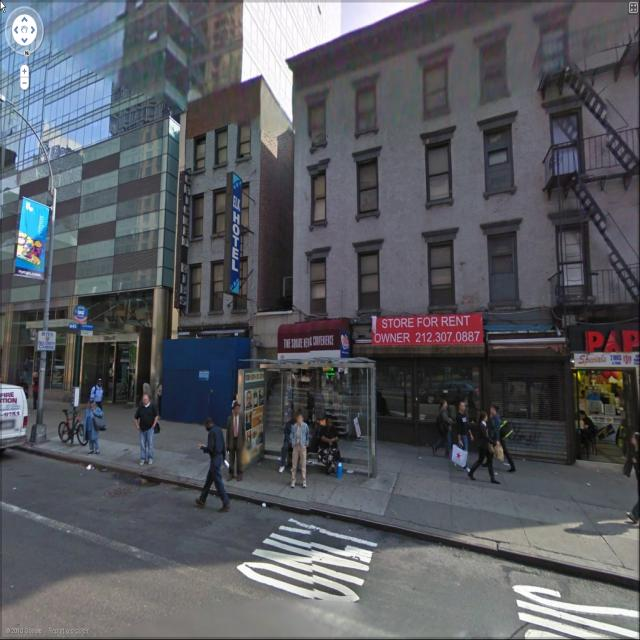b_1: (290, 19, 636, 420), (0, 6, 186, 360), (175, 83, 302, 354)
